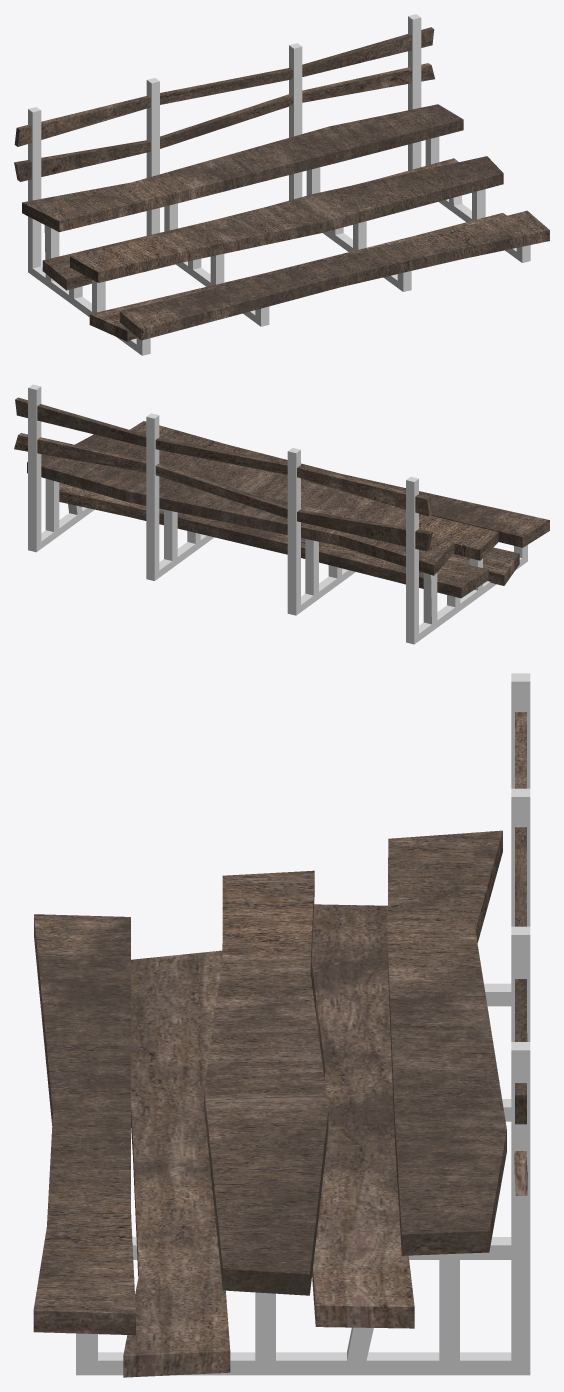
File: arquibancada.fbx
The picture shows the model from 3 angles, top to bottom: view 1: azimuth 30°, elevation 25°; view 2: azimuth 150°, elevation 25°; view 3: azimuth 270°, elevation 25°; orthographic projection. The views are drawn at different scales.
Parts seen in each view (by area): view 1: Bench01; view 2: Bench01; view 3: Bench01.
Boxes of the visible parts, x1,y1,x2,y2 form: Bench01: (14,14,549,355); Bench01: (14,384,549,644); Bench01: (33,673,530,1377).
Size of the model in its own units: 750 by 277 by 384.
2 materials, 1 textured.
